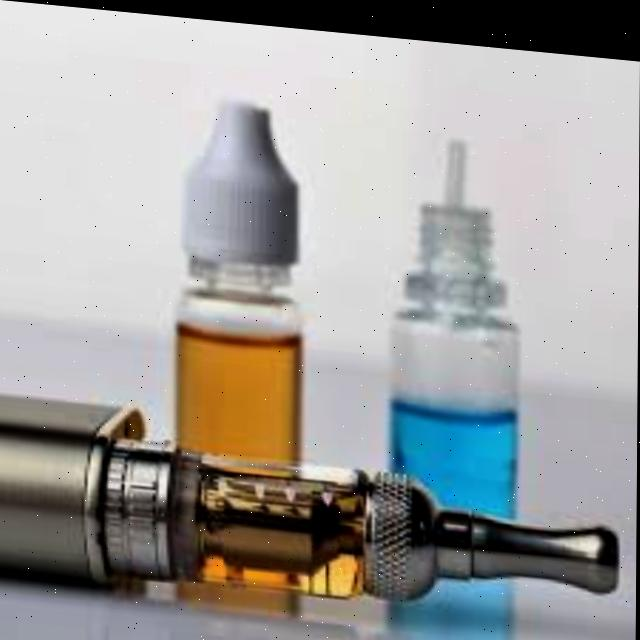vape: (0, 392, 620, 634)
